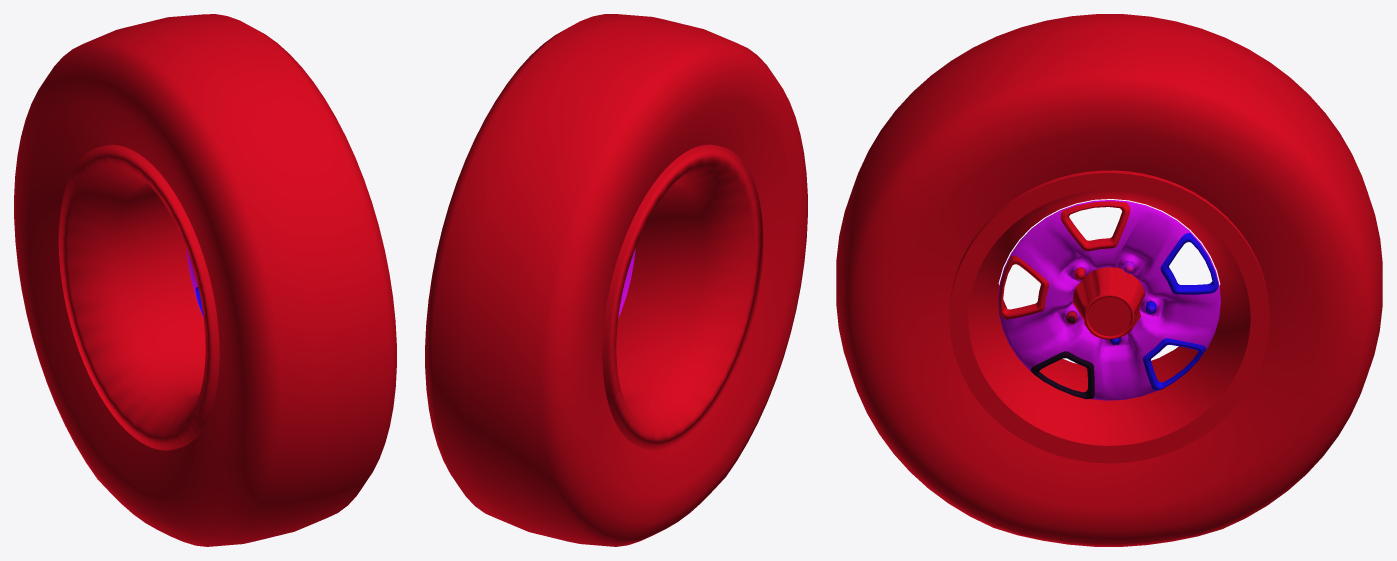
File: Wheel.fbx
3 renders of one model, left to right at view 1: azimuth 30°, elevation 25°; view 2: azimuth 150°, elevation 25°; view 3: azimuth 270°, elevation 25°, orthographic. The views are drawn at different scales.
Visible parts, largest first — view 1: wheels; view 2: wheels; view 3: wheels.
Boxes of the visible parts, bbox=[...] form: wheels: bbox=[14, 14, 396, 546]; wheels: bbox=[425, 14, 807, 546]; wheels: bbox=[836, 14, 1382, 546].
Size of the model in its own units: 17.59 by 52.37 by 53.16.
